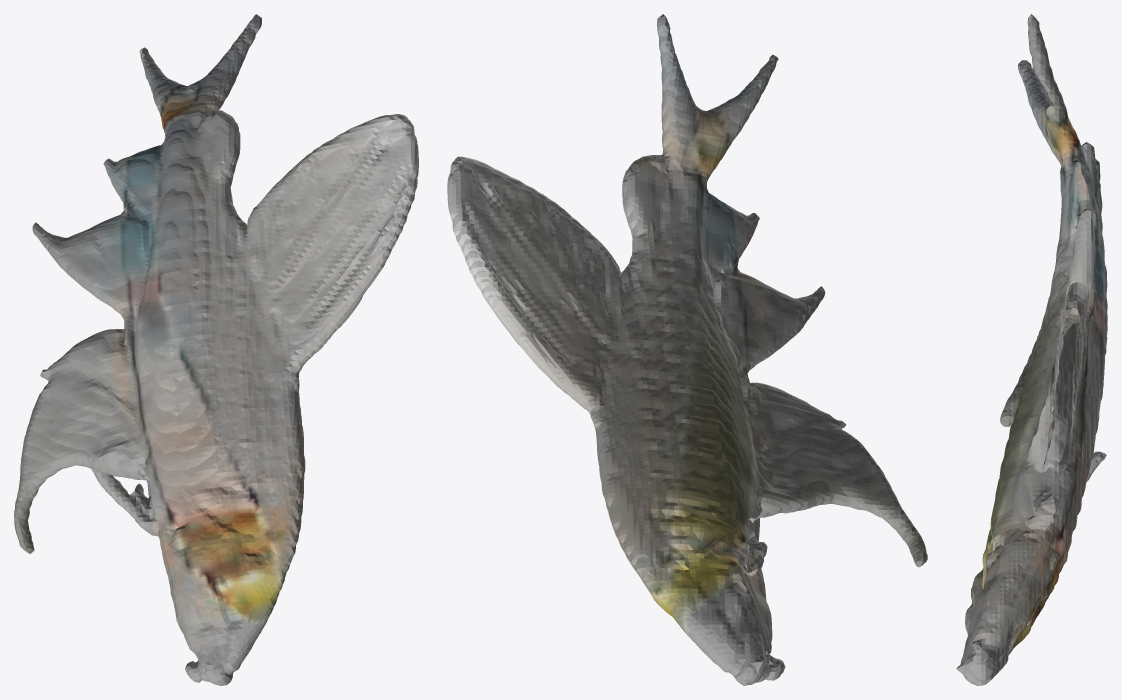
The model's file is guppy.glb.
3 renders of one model, left to right at view 1: azimuth 30°, elevation 25°; view 2: azimuth 150°, elevation 25°; view 3: azimuth 270°, elevation 25°, orthographic. The views are drawn at different scales.
Visible parts, largest first — view 1: world; view 2: world; view 3: world.
Boxes of the visible parts, x1,y1,x2,y2 form: world: [14, 14, 418, 685]; world: [447, 14, 927, 685]; world: [956, 14, 1107, 685].
Bounding box in the file's own units: 0.7514 × 1.08 × 0.2257.
